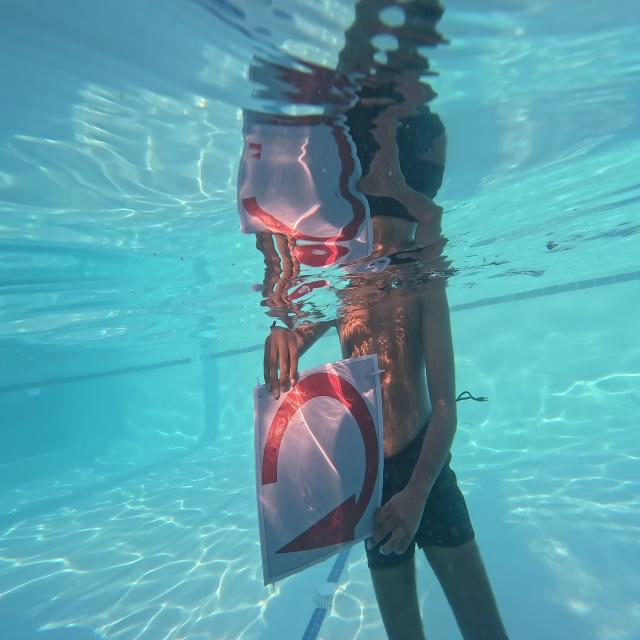red_side: (255, 360, 381, 570)
